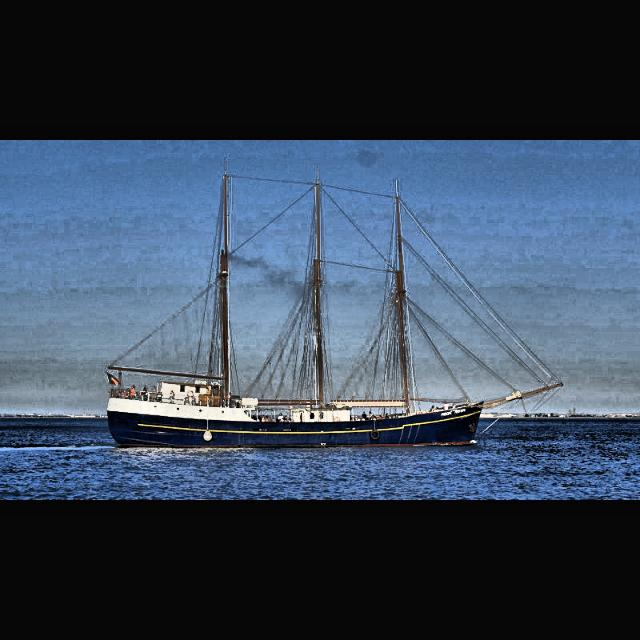sailing_vessel: (106, 157, 564, 451)
